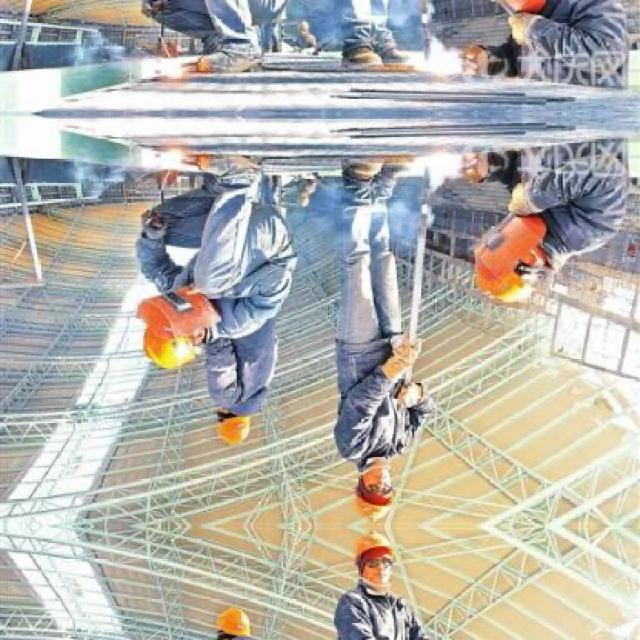con casco: (418, 208, 598, 347), (70, 280, 252, 401), (187, 370, 286, 489), (343, 453, 430, 524)
